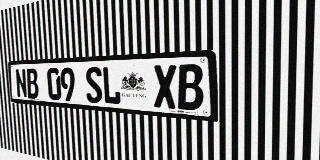0: (47, 68, 62, 101)
9: (60, 67, 76, 102)
B: (177, 64, 204, 111), (26, 68, 39, 99)
L: (102, 66, 121, 105)
N: (15, 69, 28, 98)
S: (85, 67, 103, 104)
X: (153, 65, 177, 109)
